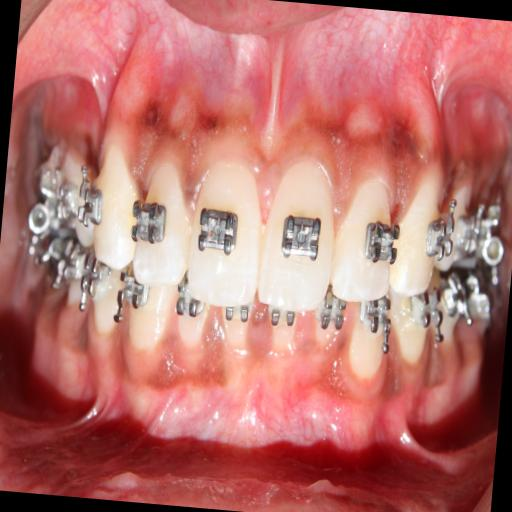correct_brace: (276, 208, 330, 268), (356, 202, 403, 270), (128, 192, 174, 256), (198, 198, 240, 264)
incorrect_brace: (124, 152, 198, 292), (329, 171, 405, 304)
